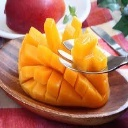mango: (18, 17, 109, 108)
